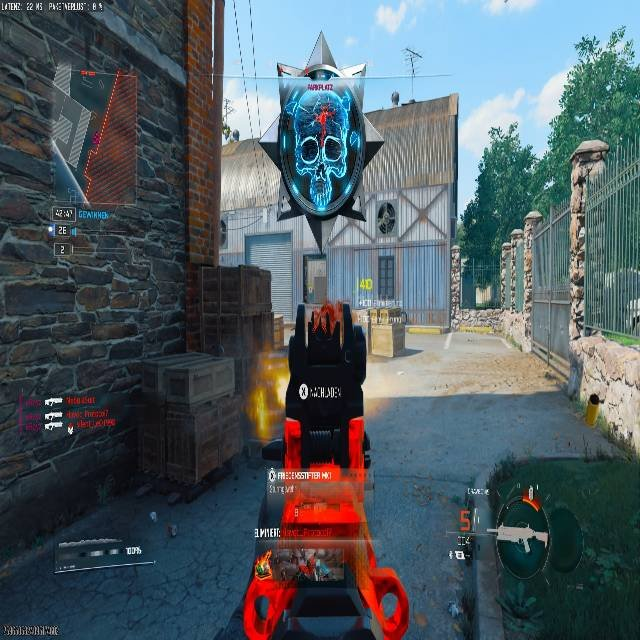player: (570, 272, 584, 340)
